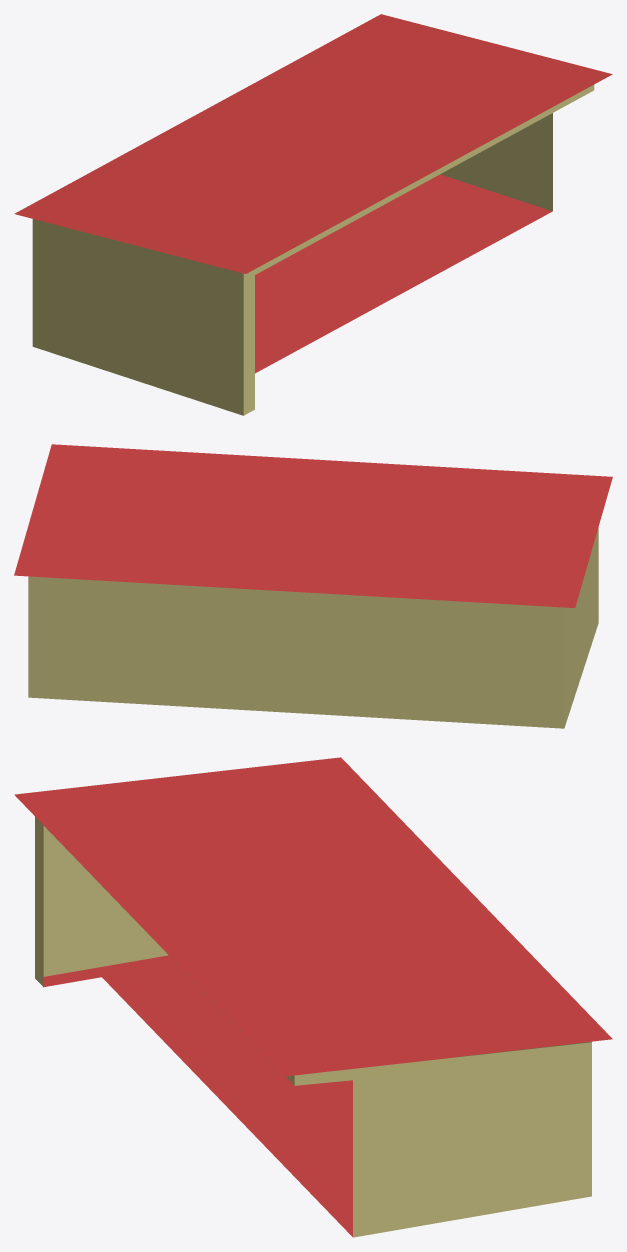
3 views of the same model, one above another, from view 1: azimuth 30°, elevation 25°; view 2: azimuth 150°, elevation 25°; view 3: azimuth 270°, elevation 25° (orthographic). The views are drawn at different scales.
Bounding box in the file's own units: 37.19 × 27.83 × 9.23.
